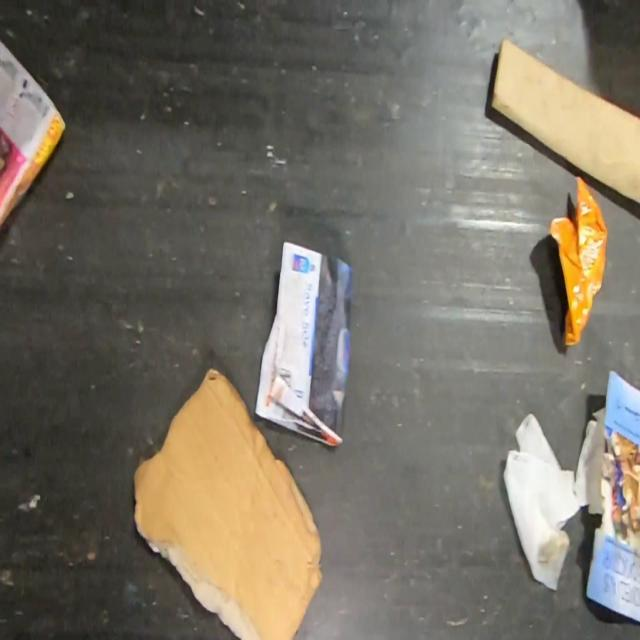cardboard: (130, 365, 325, 640), (489, 35, 639, 204)
soft_plastic: (546, 172, 610, 348)
